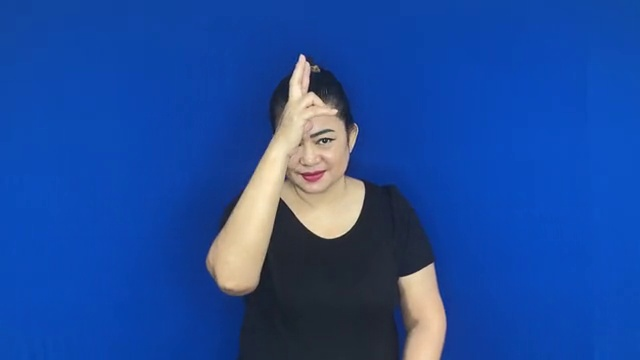chicken: (274, 47, 342, 155)
